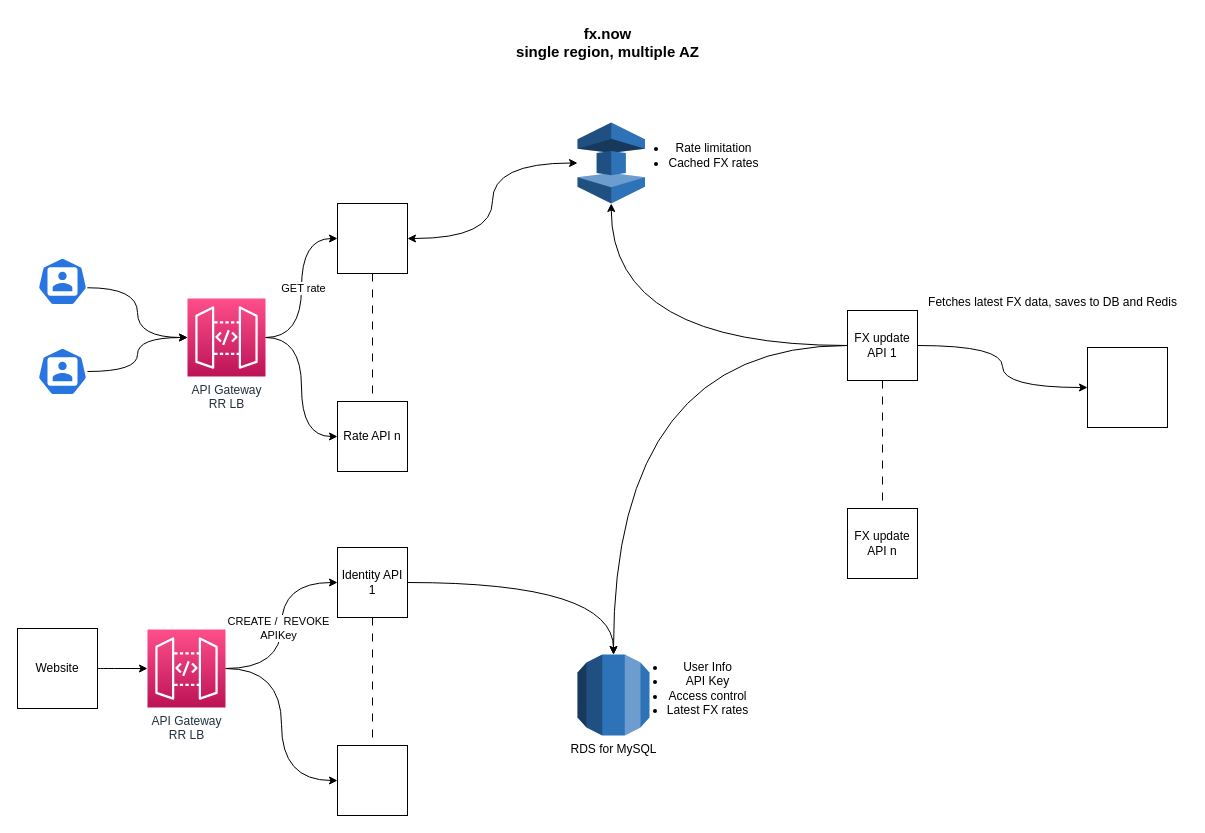
The diagram is 1205 pixels wide and 833 high, and some of its shapes have lost their labels. Here are the shapes that lost their labels. From the top down, the box of each, then its label:
(576, 122, 645, 204): Elasticache for Redis
(336, 202, 408, 274): Rate API 1
(1086, 346, 1168, 428): External FX Providers
(336, 744, 408, 816): Identity API n
